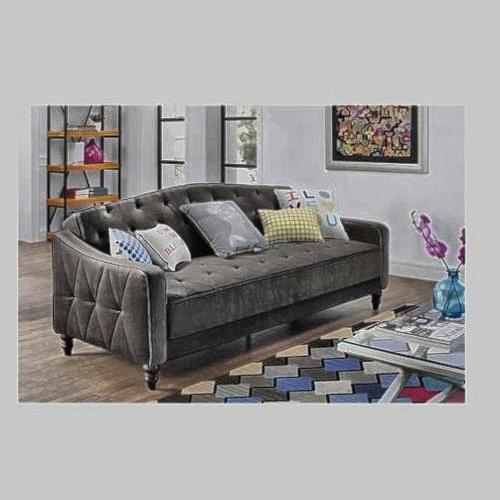sofa: (51, 174, 391, 367)
